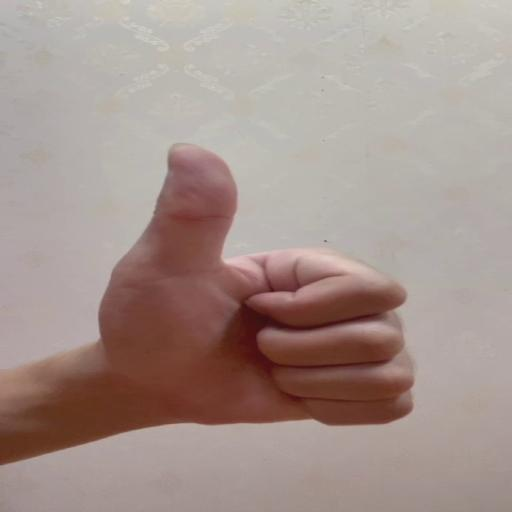thumbs_up: (100, 140, 421, 427)
